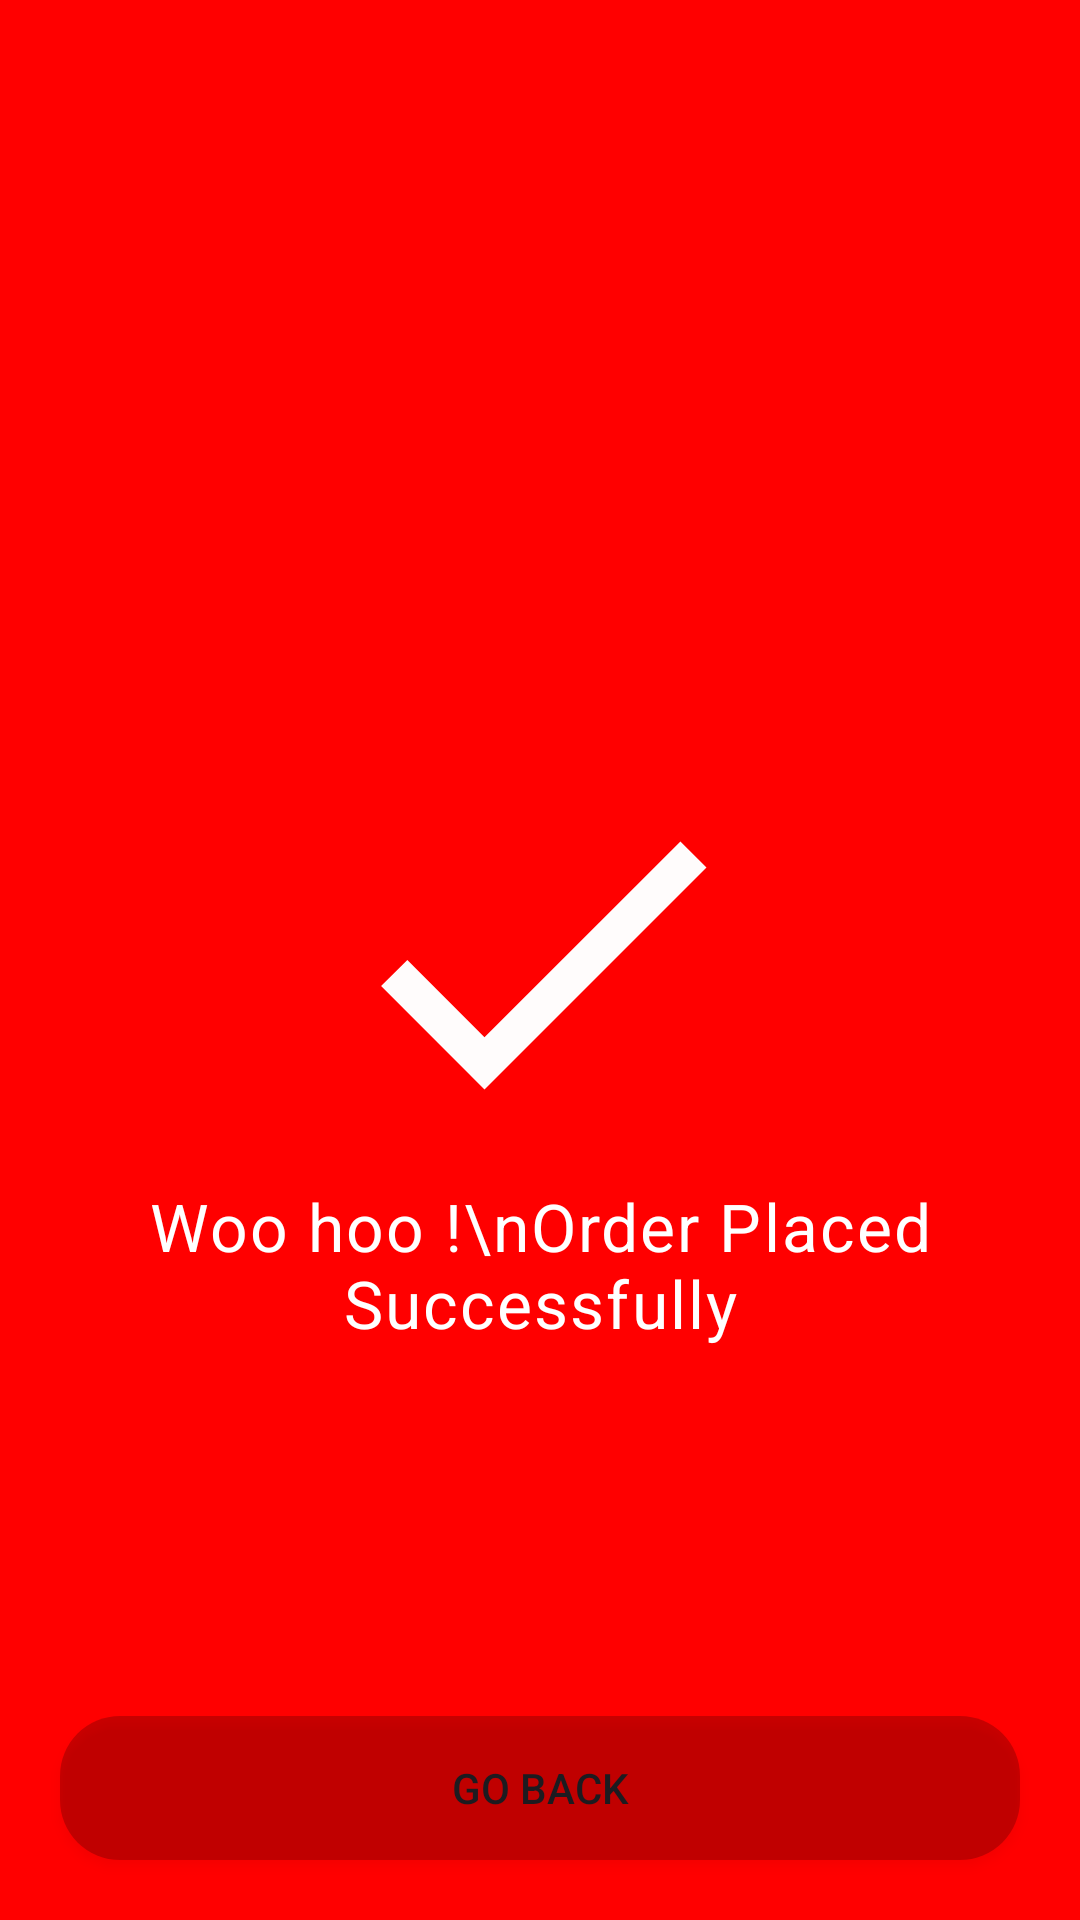

Screen size 1080 × 1920. Icon name, then its center in pixels as [x,y]:
check: [544,965]
